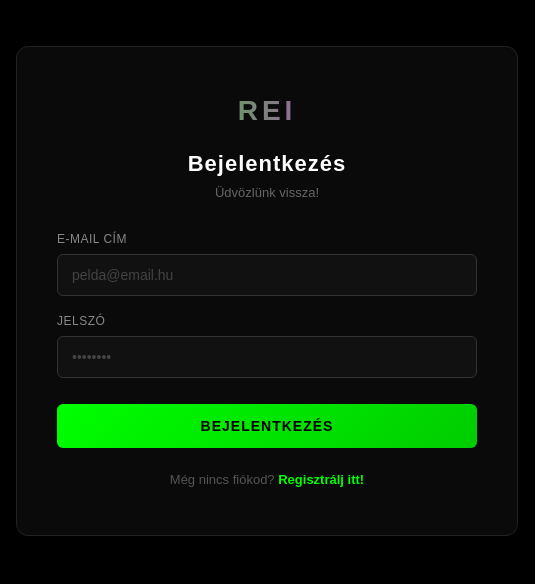
<Bejelentkezes /> › hibás credentials-szel hibaüzenet jelenik meg
Type "rossz@pelda.hu" into the field with placeholder "pelda@email.hu".
click(267, 275); type("rossz@pelda.hu")  # box [57,254,477,296]
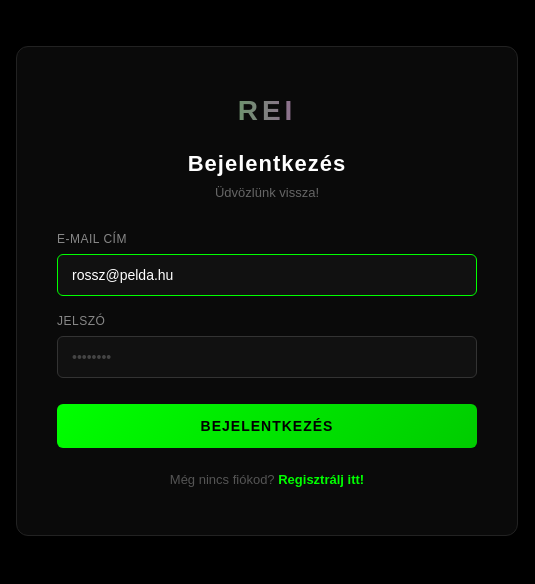
Type "rosszjelszo" into the password field with placeholder "••••••••".
click(267, 357); type("rosszjelszo")  # box [57,336,477,378]
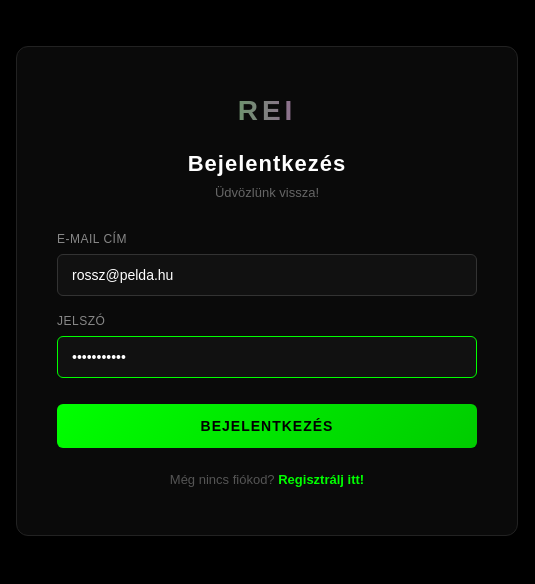
Click the button "Bejelentkezés".
click(267, 426)  # box [57,404,477,448]
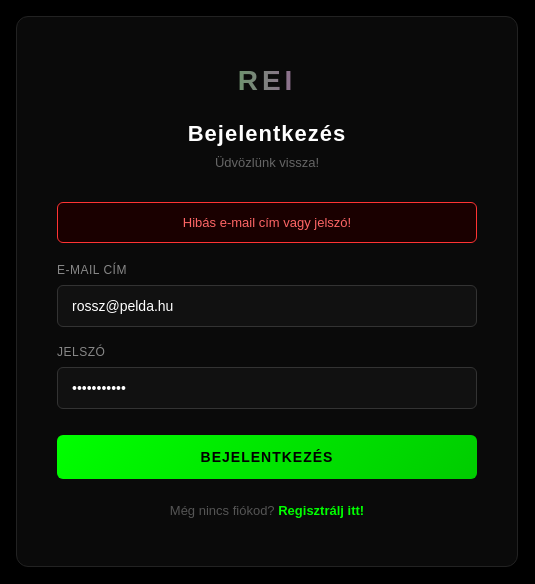
Result: the text "Hibás e-mail cím vagy jelszó!" is shown at [57,202,477,242]
